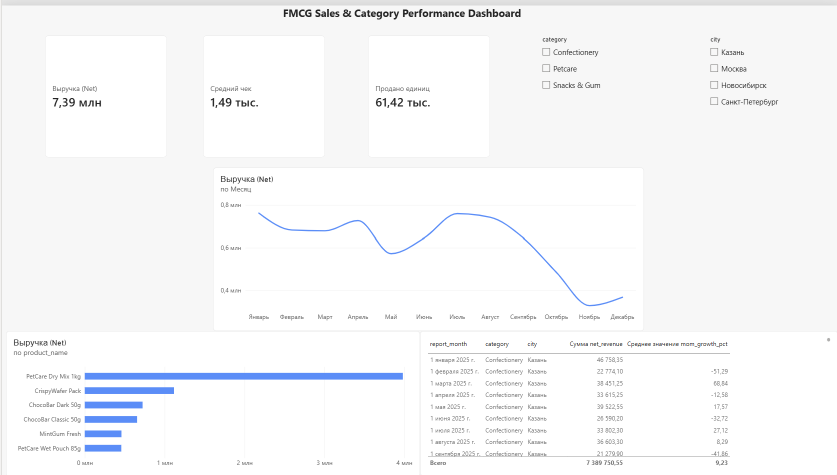

The dashboard page shown, as its layout file describes it:
{"tool":"powerbi","page":{"name":"Страница 1","canvas":[1920,1080],"ordinal":0},"visuals":[{"type":"textbox","box":[10,0,280,280],"z":0},{"type":"textbox","box":[645.4,0,567.3,50.5],"z":1000},{"type":"cardVisual","fields":{"Data":["public fact_sales.Выручка (Net)"]},"box":[98.8,68.9,280,280],"z":2000},{"type":"cardVisual","fields":{"Data":["public fact_sales.Средний чек"]},"box":[461.6,68.9,280,280],"z":3000},{"type":"cardVisual","fields":{"Data":["public fact_sales.Продано единиц"]},"box":[840.6,68.9,280.2,280.2],"z":4000},{"type":"slicer","fields":{"Values":["public dim_products.category"]},"box":[1233.3,68.9,280,280],"z":5000},{"type":"slicer","fields":{"Values":["public dim_regions.city"]},"box":[1619.1,68.9,280,280],"z":6000},{"type":"lineChart","fields":{"Category":["public fact_sales.sale_date.Variation.Иерархия дат.Год","public fact_sales.sale_date.Variation.Иерархия дат.Квартал","public fact_sales.sale_date.Variation.Иерархия дат.Месяц","public fact_sales.sale_date.Variation.Иерархия дат.День"],"Y":["public fact_sales.Выручка (Net)"]},"box":[484.6,372.1,989.9,374.4],"z":7000},{"type":"clusteredBarChart","fields":{"Category":["public dim_products.product_name"],"Y":["public fact_sales.Выручка (Net)"]},"box":[9.2,746.4,950.8,335.3],"z":7001},{"type":"tableEx","fields":{"Values":["public v_monthly_category_kpi.report_month","public v_monthly_category_kpi.category","public v_monthly_category_kpi.city","Sum(public v_monthly_category_kpi.net_revenue)","Avg(public v_monthly_category_kpi.mom_growth_pct)"]},"box":[960,746.4,960,333],"z":7002}]}

Visuals, with their boxes in screenshot pixels (x1, y1, x2, y2), scaled from the page's 1920x1080 canvas onto the 837x475 screenshot:
textbox: pyautogui.locateOnScreen(4, 0, 126, 123)
textbox: pyautogui.locateOnScreen(281, 0, 529, 22)
cardVisual - public fact_sales.Выручка (Net): pyautogui.locateOnScreen(43, 30, 165, 153)
cardVisual - public fact_sales.Средний чек: pyautogui.locateOnScreen(201, 30, 323, 153)
cardVisual - public fact_sales.Продано единиц: pyautogui.locateOnScreen(366, 30, 489, 154)
slicer - public dim_products.category: pyautogui.locateOnScreen(538, 30, 660, 153)
slicer - public dim_regions.city: pyautogui.locateOnScreen(706, 30, 828, 153)
lineChart - public fact_sales.sale_date.Variation.Иерархия дат.Год x public fact_sales.sale_date.Variation.Иерархия дат.Квартал: pyautogui.locateOnScreen(211, 164, 643, 328)
clusteredBarChart - public dim_products.product_name x public fact_sales.Выручка (Net): pyautogui.locateOnScreen(4, 328, 418, 474)
tableEx - public v_monthly_category_kpi.report_month x public v_monthly_category_kpi.category: pyautogui.locateOnScreen(418, 328, 836, 474)
